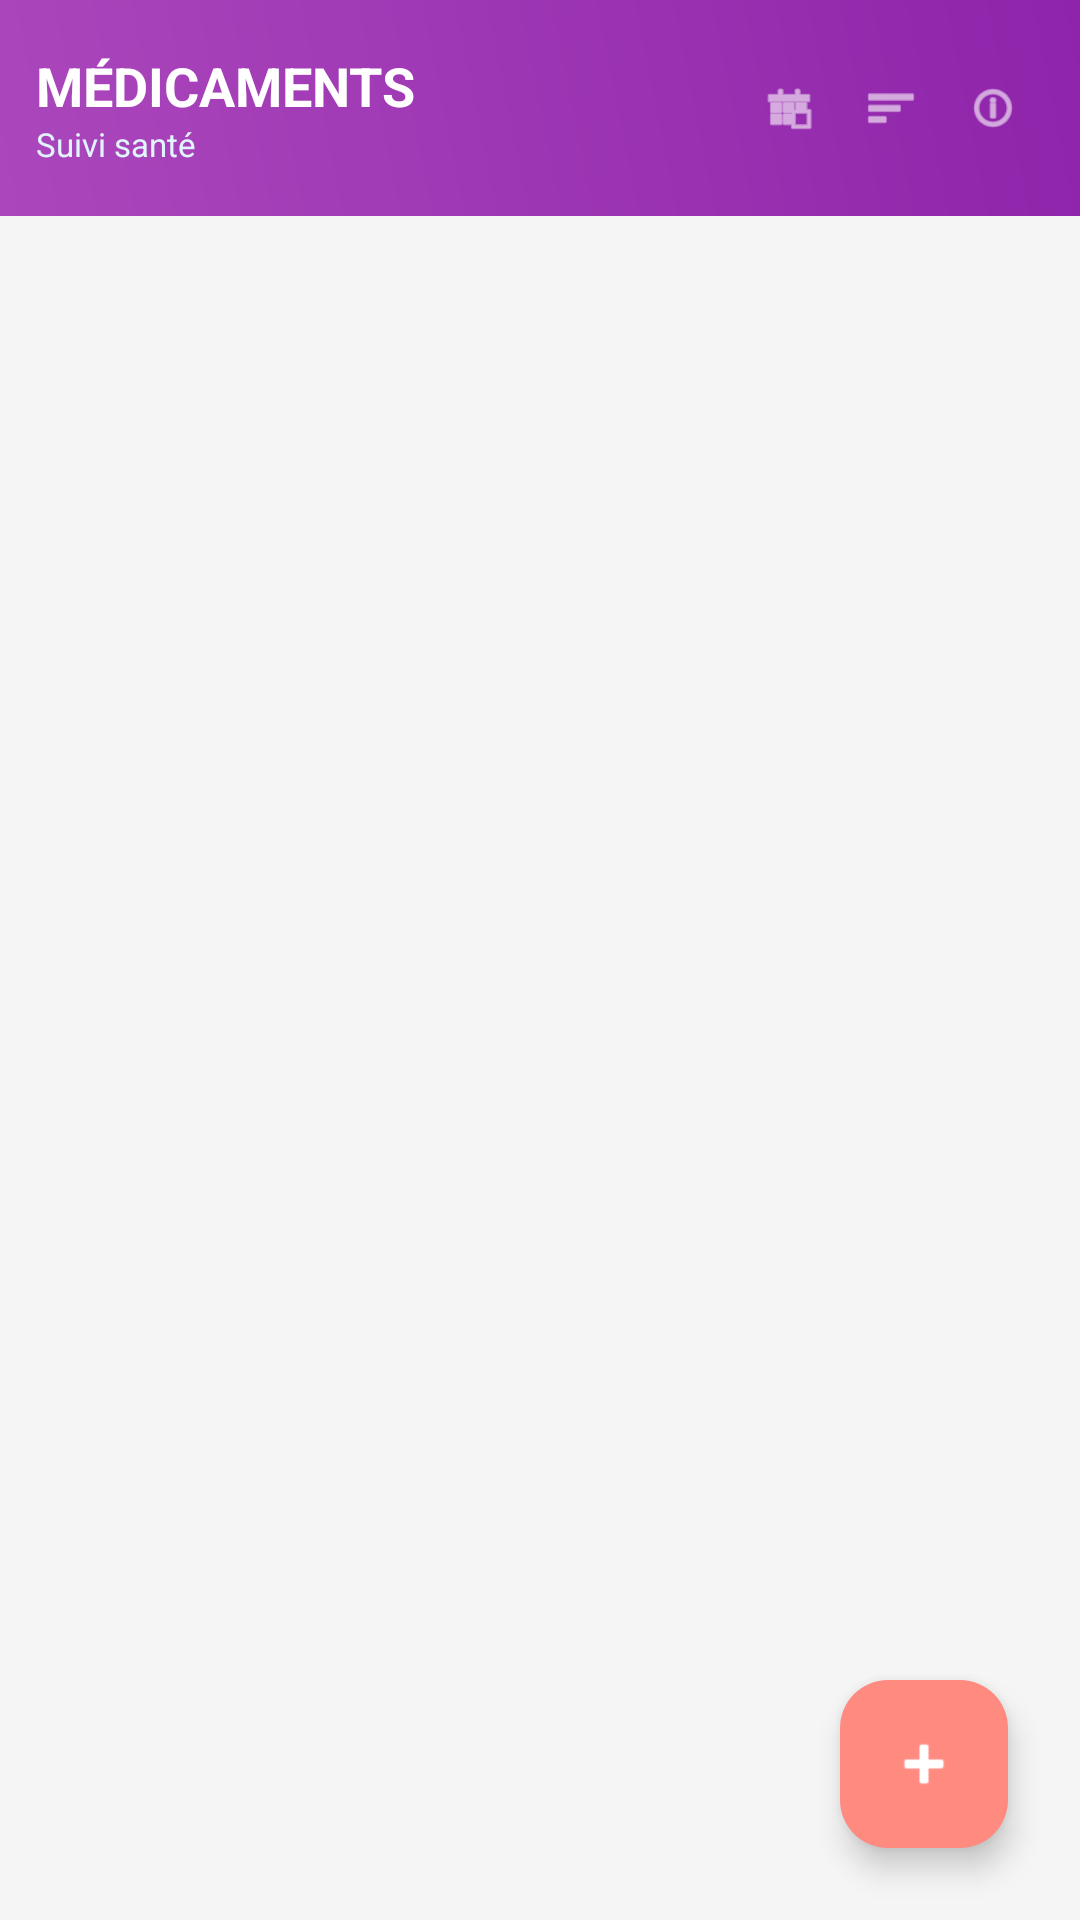

Point at icon controls on the screen. Image size 1080x1920, points as point (x, y).
add: point (924, 1764)
info details: point (993, 108)
sort by size: point (891, 108)
today: point (789, 108)
